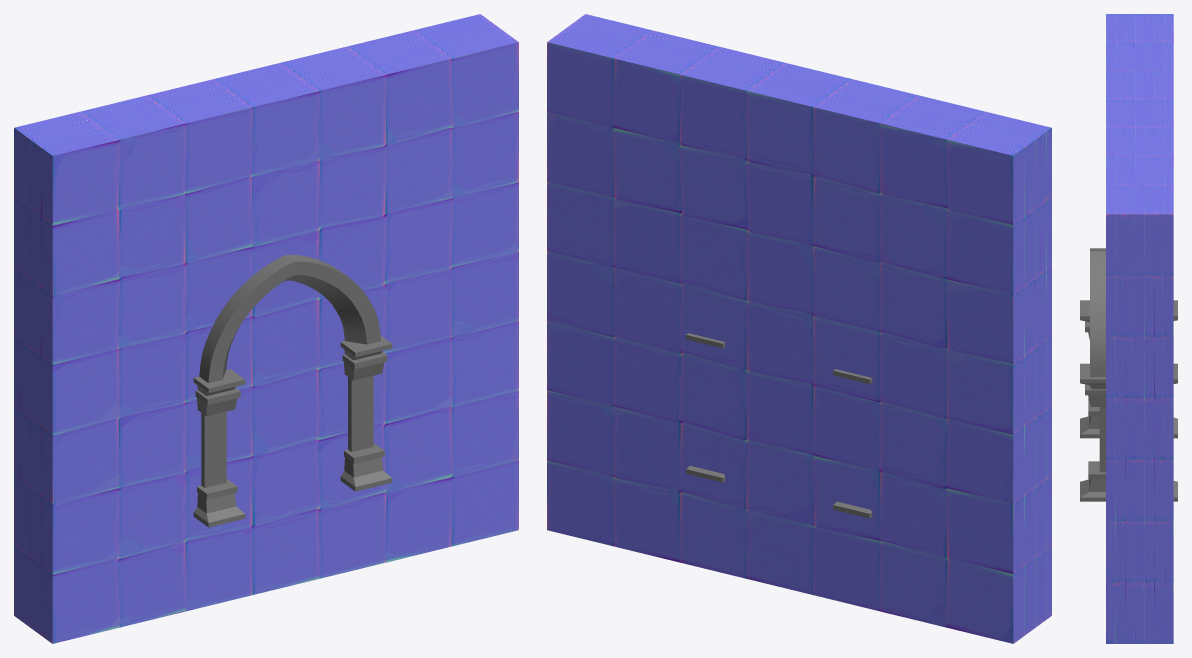
The model's file is GameObject (6).fbx.
The picture shows the model from 3 angles, left to right: view 1: azimuth 30°, elevation 25°; view 2: azimuth 150°, elevation 25°; view 3: azimuth 270°, elevation 25°; orthographic projection. The views are drawn at different scales.
Visible parts, largest first — view 1: Cube__2_, Arch_A__1_; view 2: Cube__2_, Arch_A__1_; view 3: Cube__2_, Arch_A__1_.
Boxes of the visible parts, left/top/right/bottom form: Cube__2_: left=14, top=14, right=518, bottom=643; Arch_A__1_: left=193, top=255, right=392, bottom=527; Cube__2_: left=547, top=14, right=1051, bottom=643; Arch_A__1_: left=686, top=333, right=872, bottom=518; Cube__2_: left=1106, top=14, right=1173, bottom=643; Arch_A__1_: left=1080, top=248, right=1177, bottom=501.
Bounding box in the file's own units: 700 × 700 × 145.
2 materials, 1 textured.
